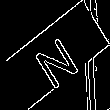N_NW: (28, 23, 82, 87)
